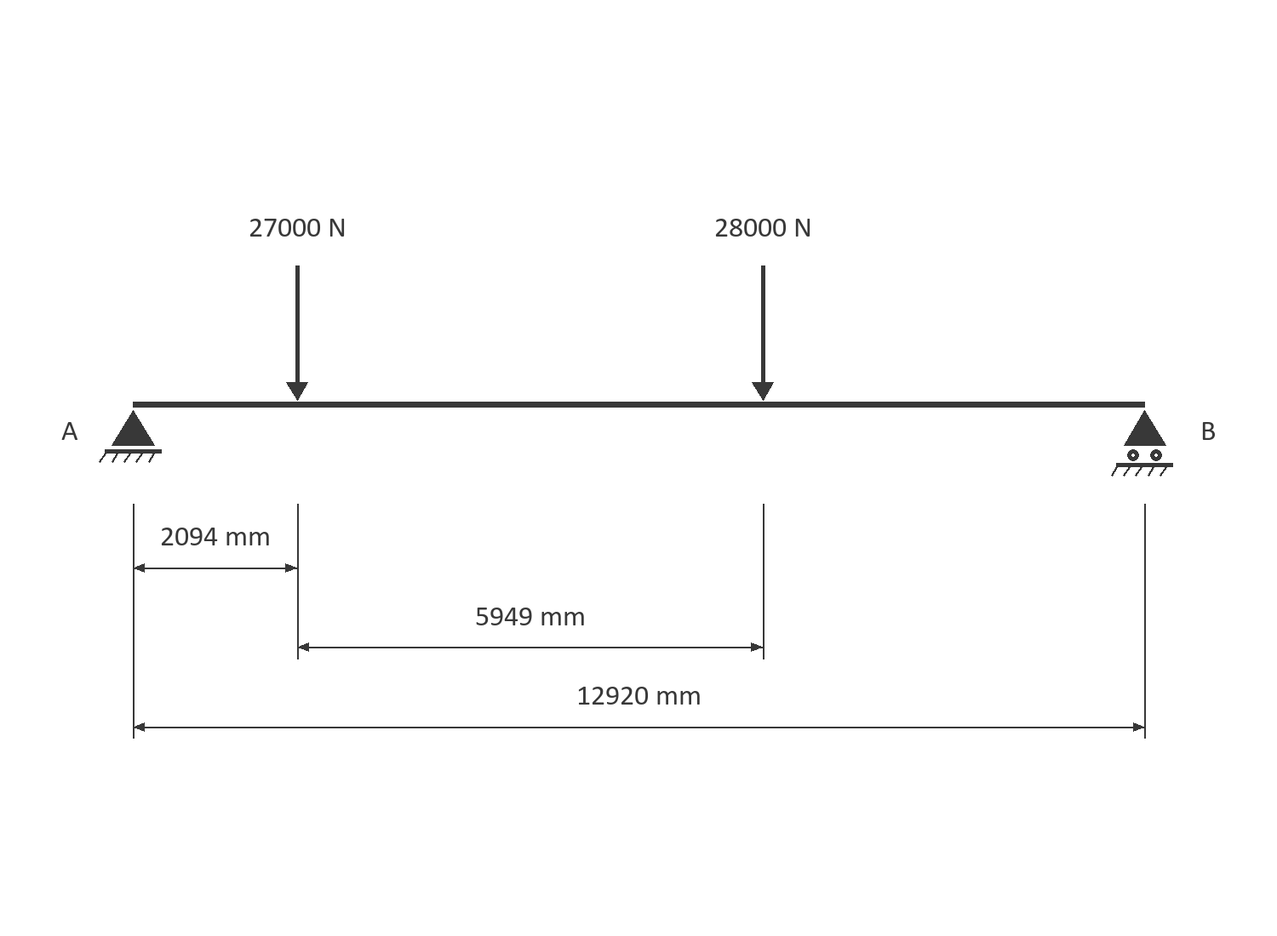pin_support: (99, 410, 162, 463)
point_load: (286, 265, 308, 401), (752, 265, 774, 401)
roller_support: (1111, 410, 1173, 477)
